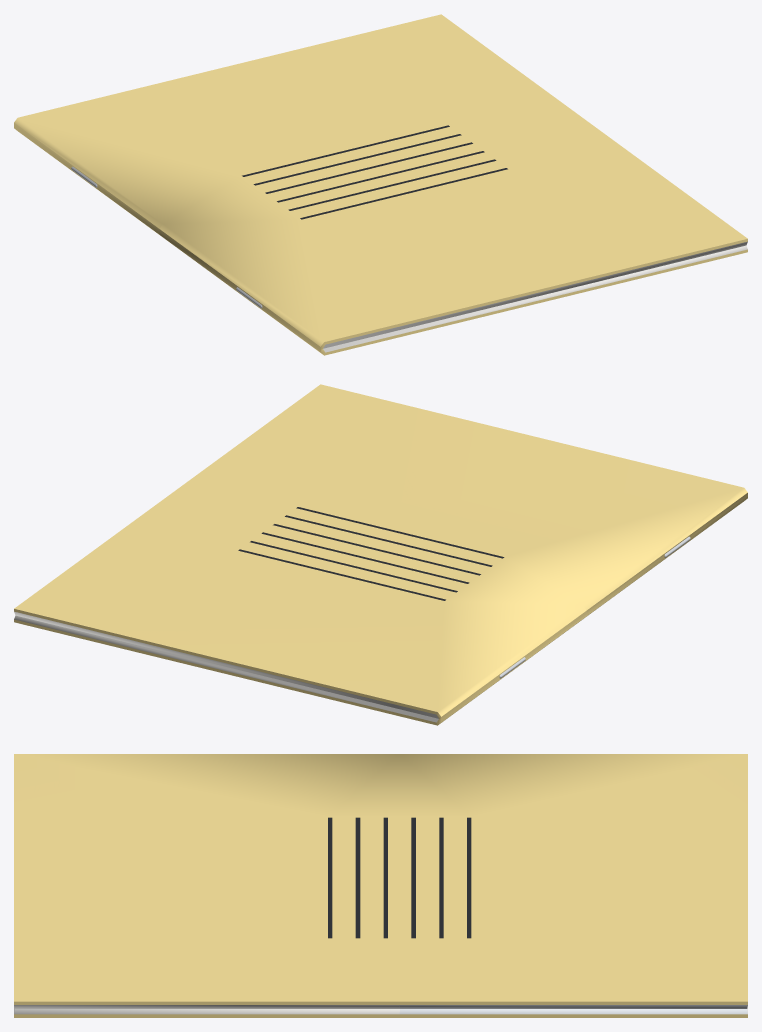
The model's file is caderno_amarelo_pacote.glb.
3 views of the same model, one above another, from view 1: azimuth 30°, elevation 25°; view 2: azimuth 150°, elevation 25°; view 3: azimuth 270°, elevation 25° (orthographic). The views are drawn at different scales.
Parts seen in each view (by area): view 1: capa, caderno_amarelo_pacote; view 2: capa, caderno_amarelo_pacote; view 3: capa, caderno_amarelo_pacote.
Boxes of the visible parts, x1=… form: capa: x1=14, y1=14, x2=747, y2=349; caderno_amarelo_pacote: x1=14, y1=125, x2=747, y2=355; capa: x1=14, y1=384, x2=747, y2=719; caderno_amarelo_pacote: x1=14, y1=495, x2=747, y2=725; capa: x1=14, y1=754, x2=747, y2=1008; caderno_amarelo_pacote: x1=14, y1=1006, x2=747, y2=1017.
Bounding box in the file's own units: 0.1677 × 0.00507 × 0.2077.
Materials: 2 (2 with a texture image).
